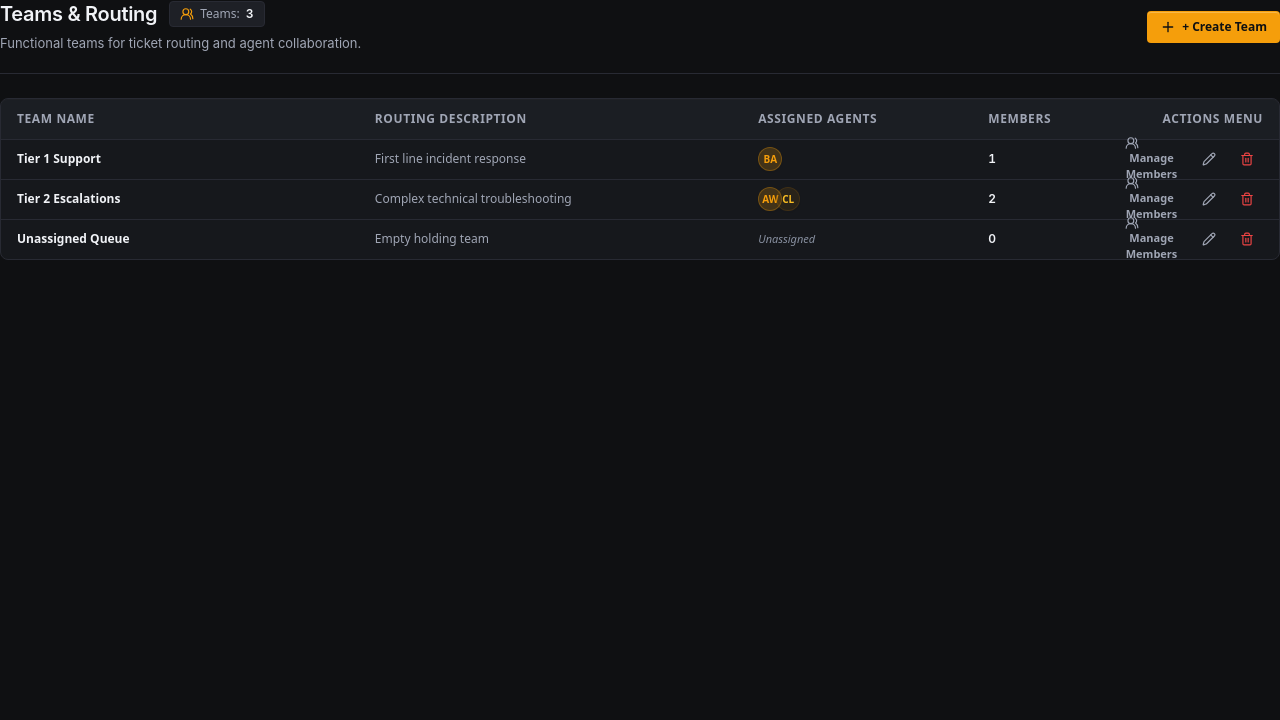
Test: TeamsView Component › opens compound modal when "+ Create Team" is clicked and completes team creation flow
This screenshot has width=1280, height=720.
// Click "+ Create Team"
Click the button with test id "create-team-btn" at (1214, 26), box x1=1147 y1=10 x2=1279 y2=42
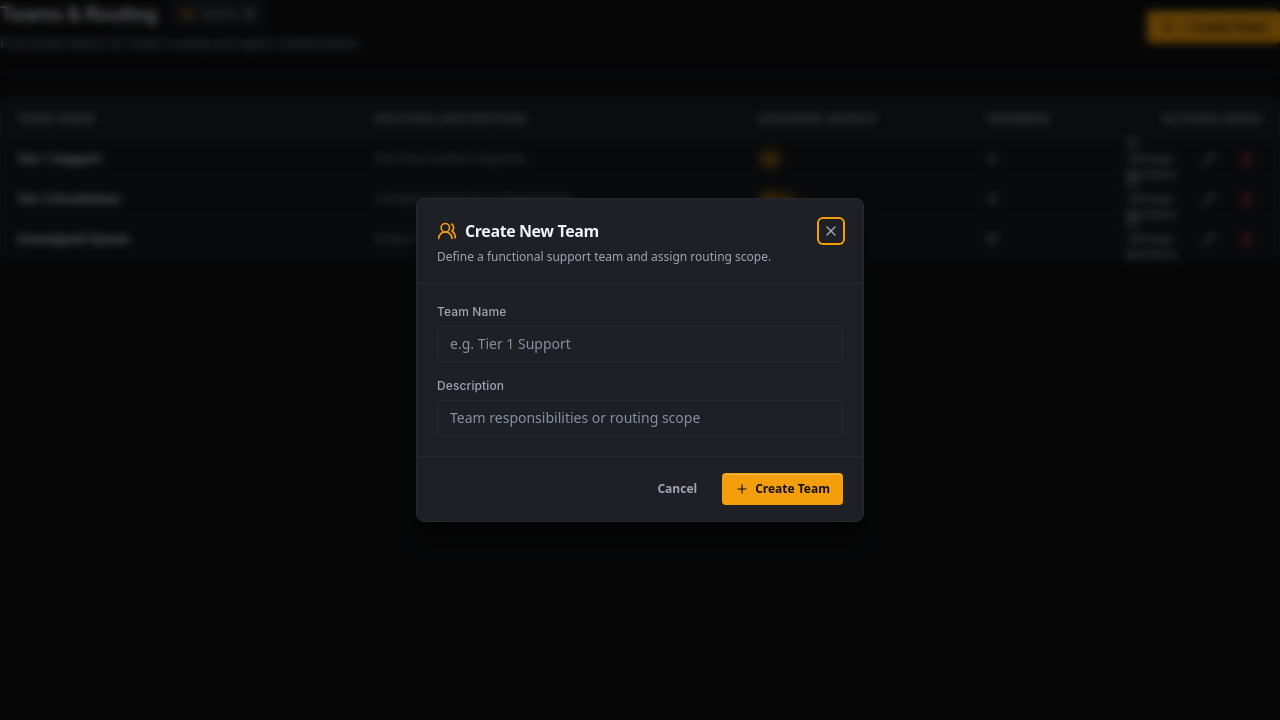
Expected: the dialog is shown
Expected: the form with test id "create-team-form" is shown
// Validation: submitting empty name fails without calling API
Submit the form with test id "create-team-form", box x1=417 y1=199 x2=863 y2=521
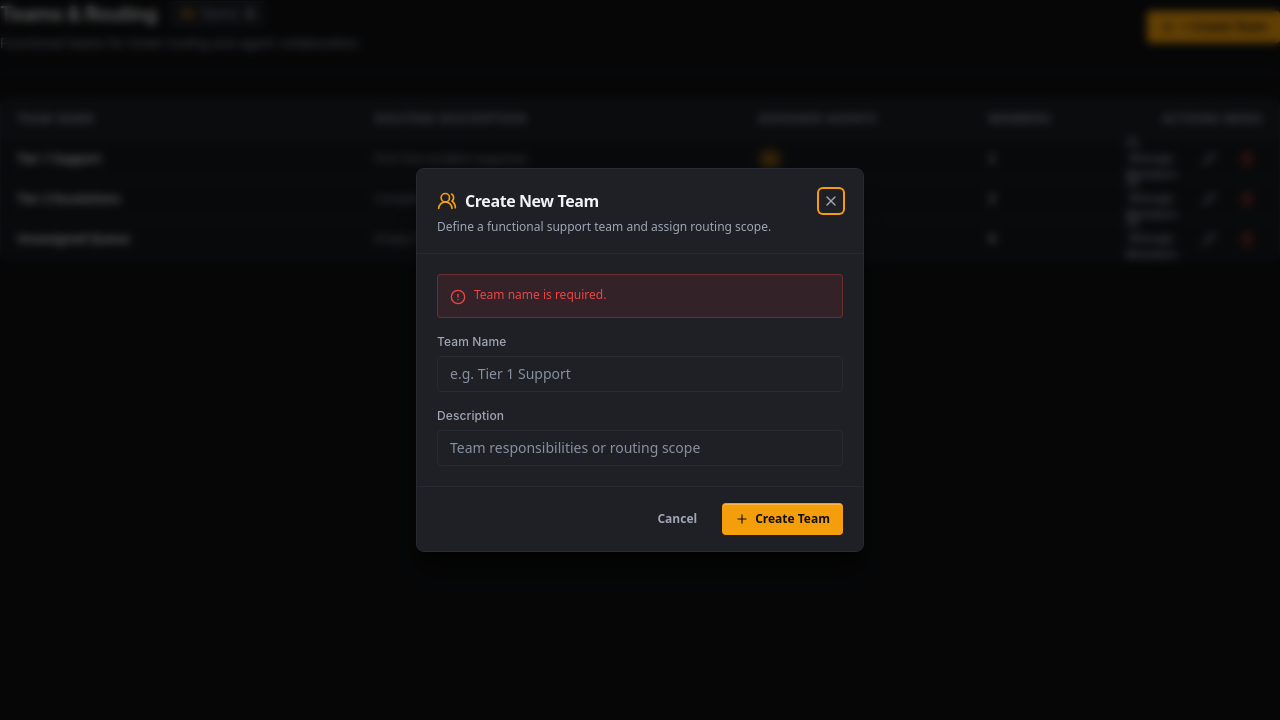
Expected: the element with test id "team-create-error" shows "Team name is required", x1=474 y1=286 x2=606 y2=303
// Enter valid details and submit
Type "Infrastructure Ops" into the field with test id "team-name-input" at (640, 374), box x1=437 y1=356 x2=843 y2=392
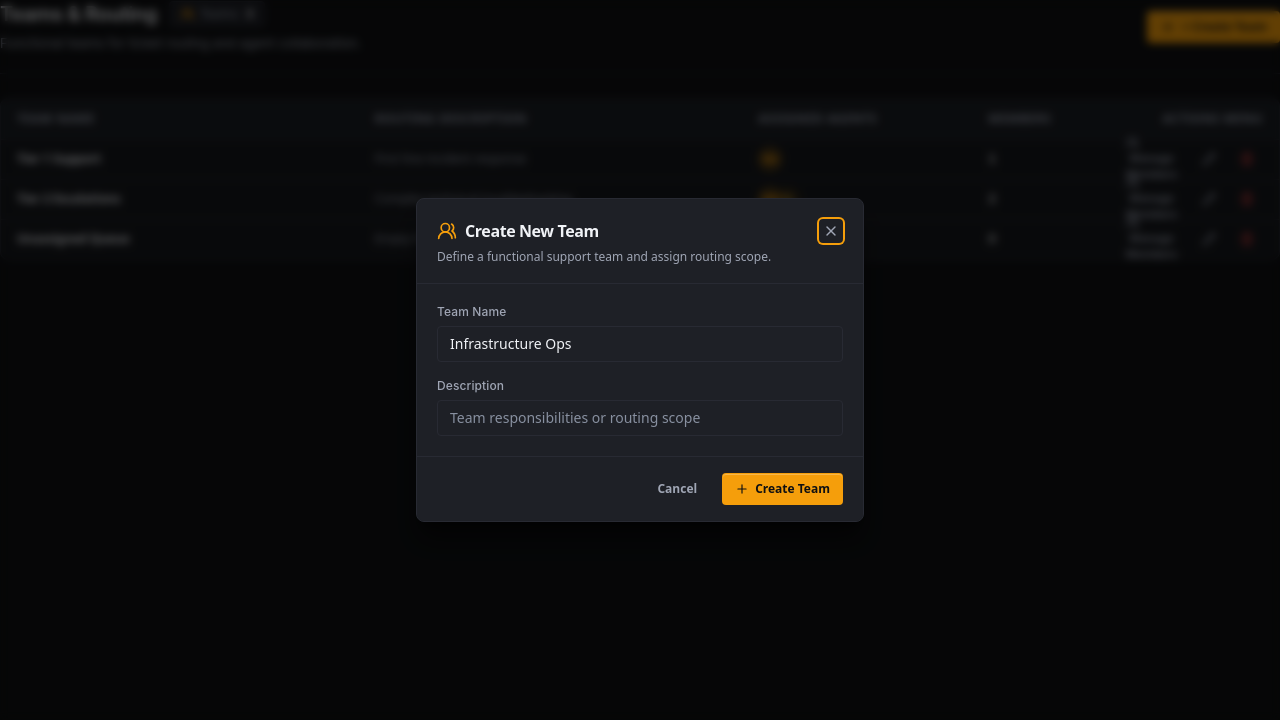
Type "Cloud infrastructure and uptime" into the field with test id "team-description-input" at (640, 418), box x1=437 y1=400 x2=843 y2=436
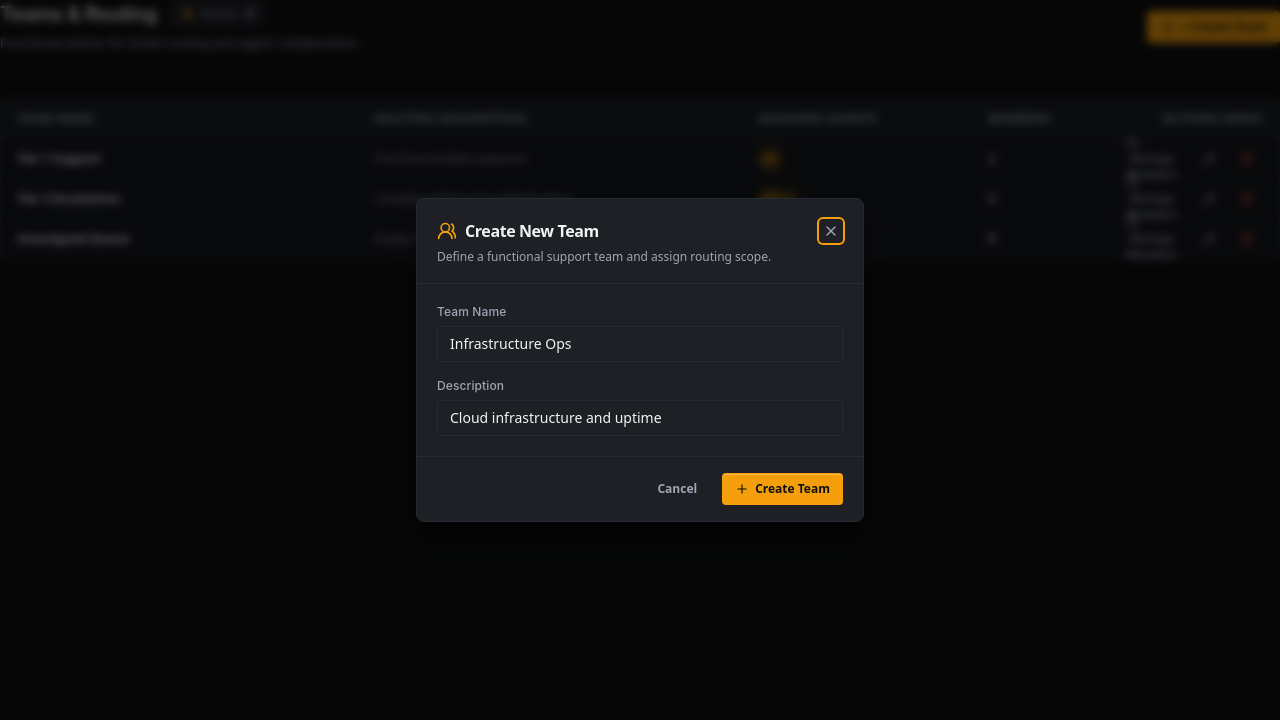
Submit the form with test id "create-team-form", box x1=417 y1=199 x2=863 y2=521
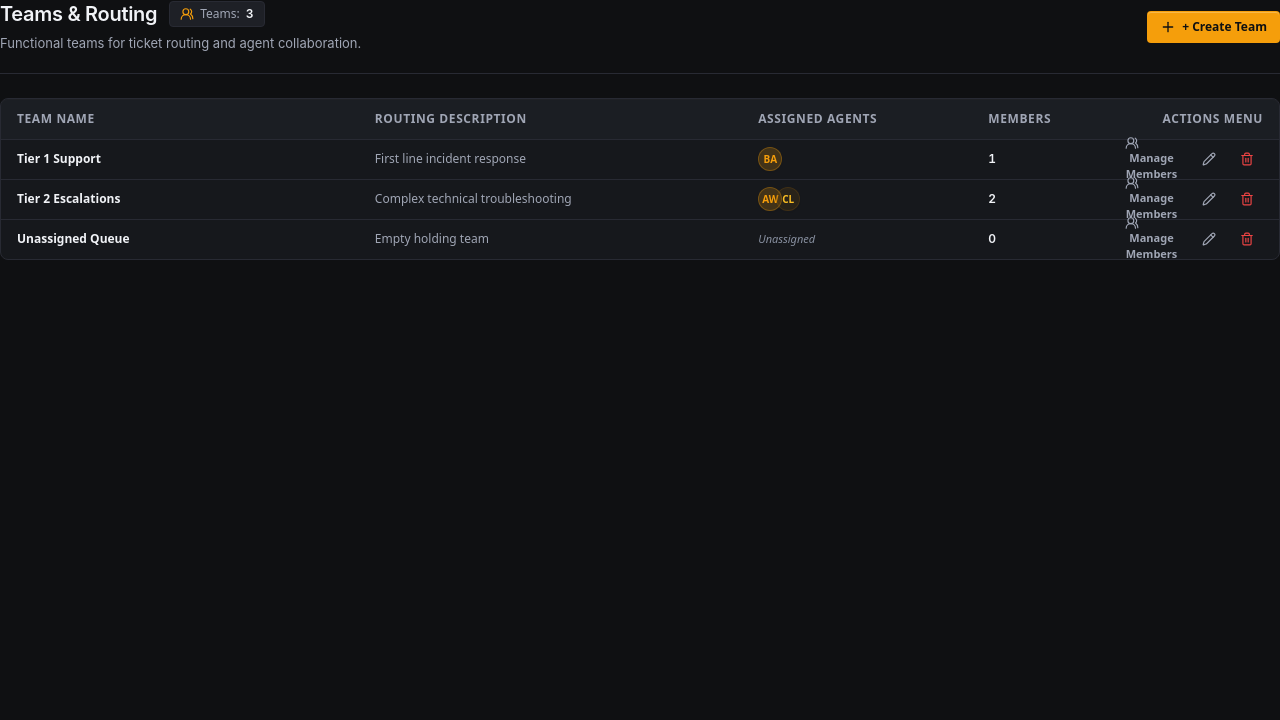
Expected: the dialog is gone
